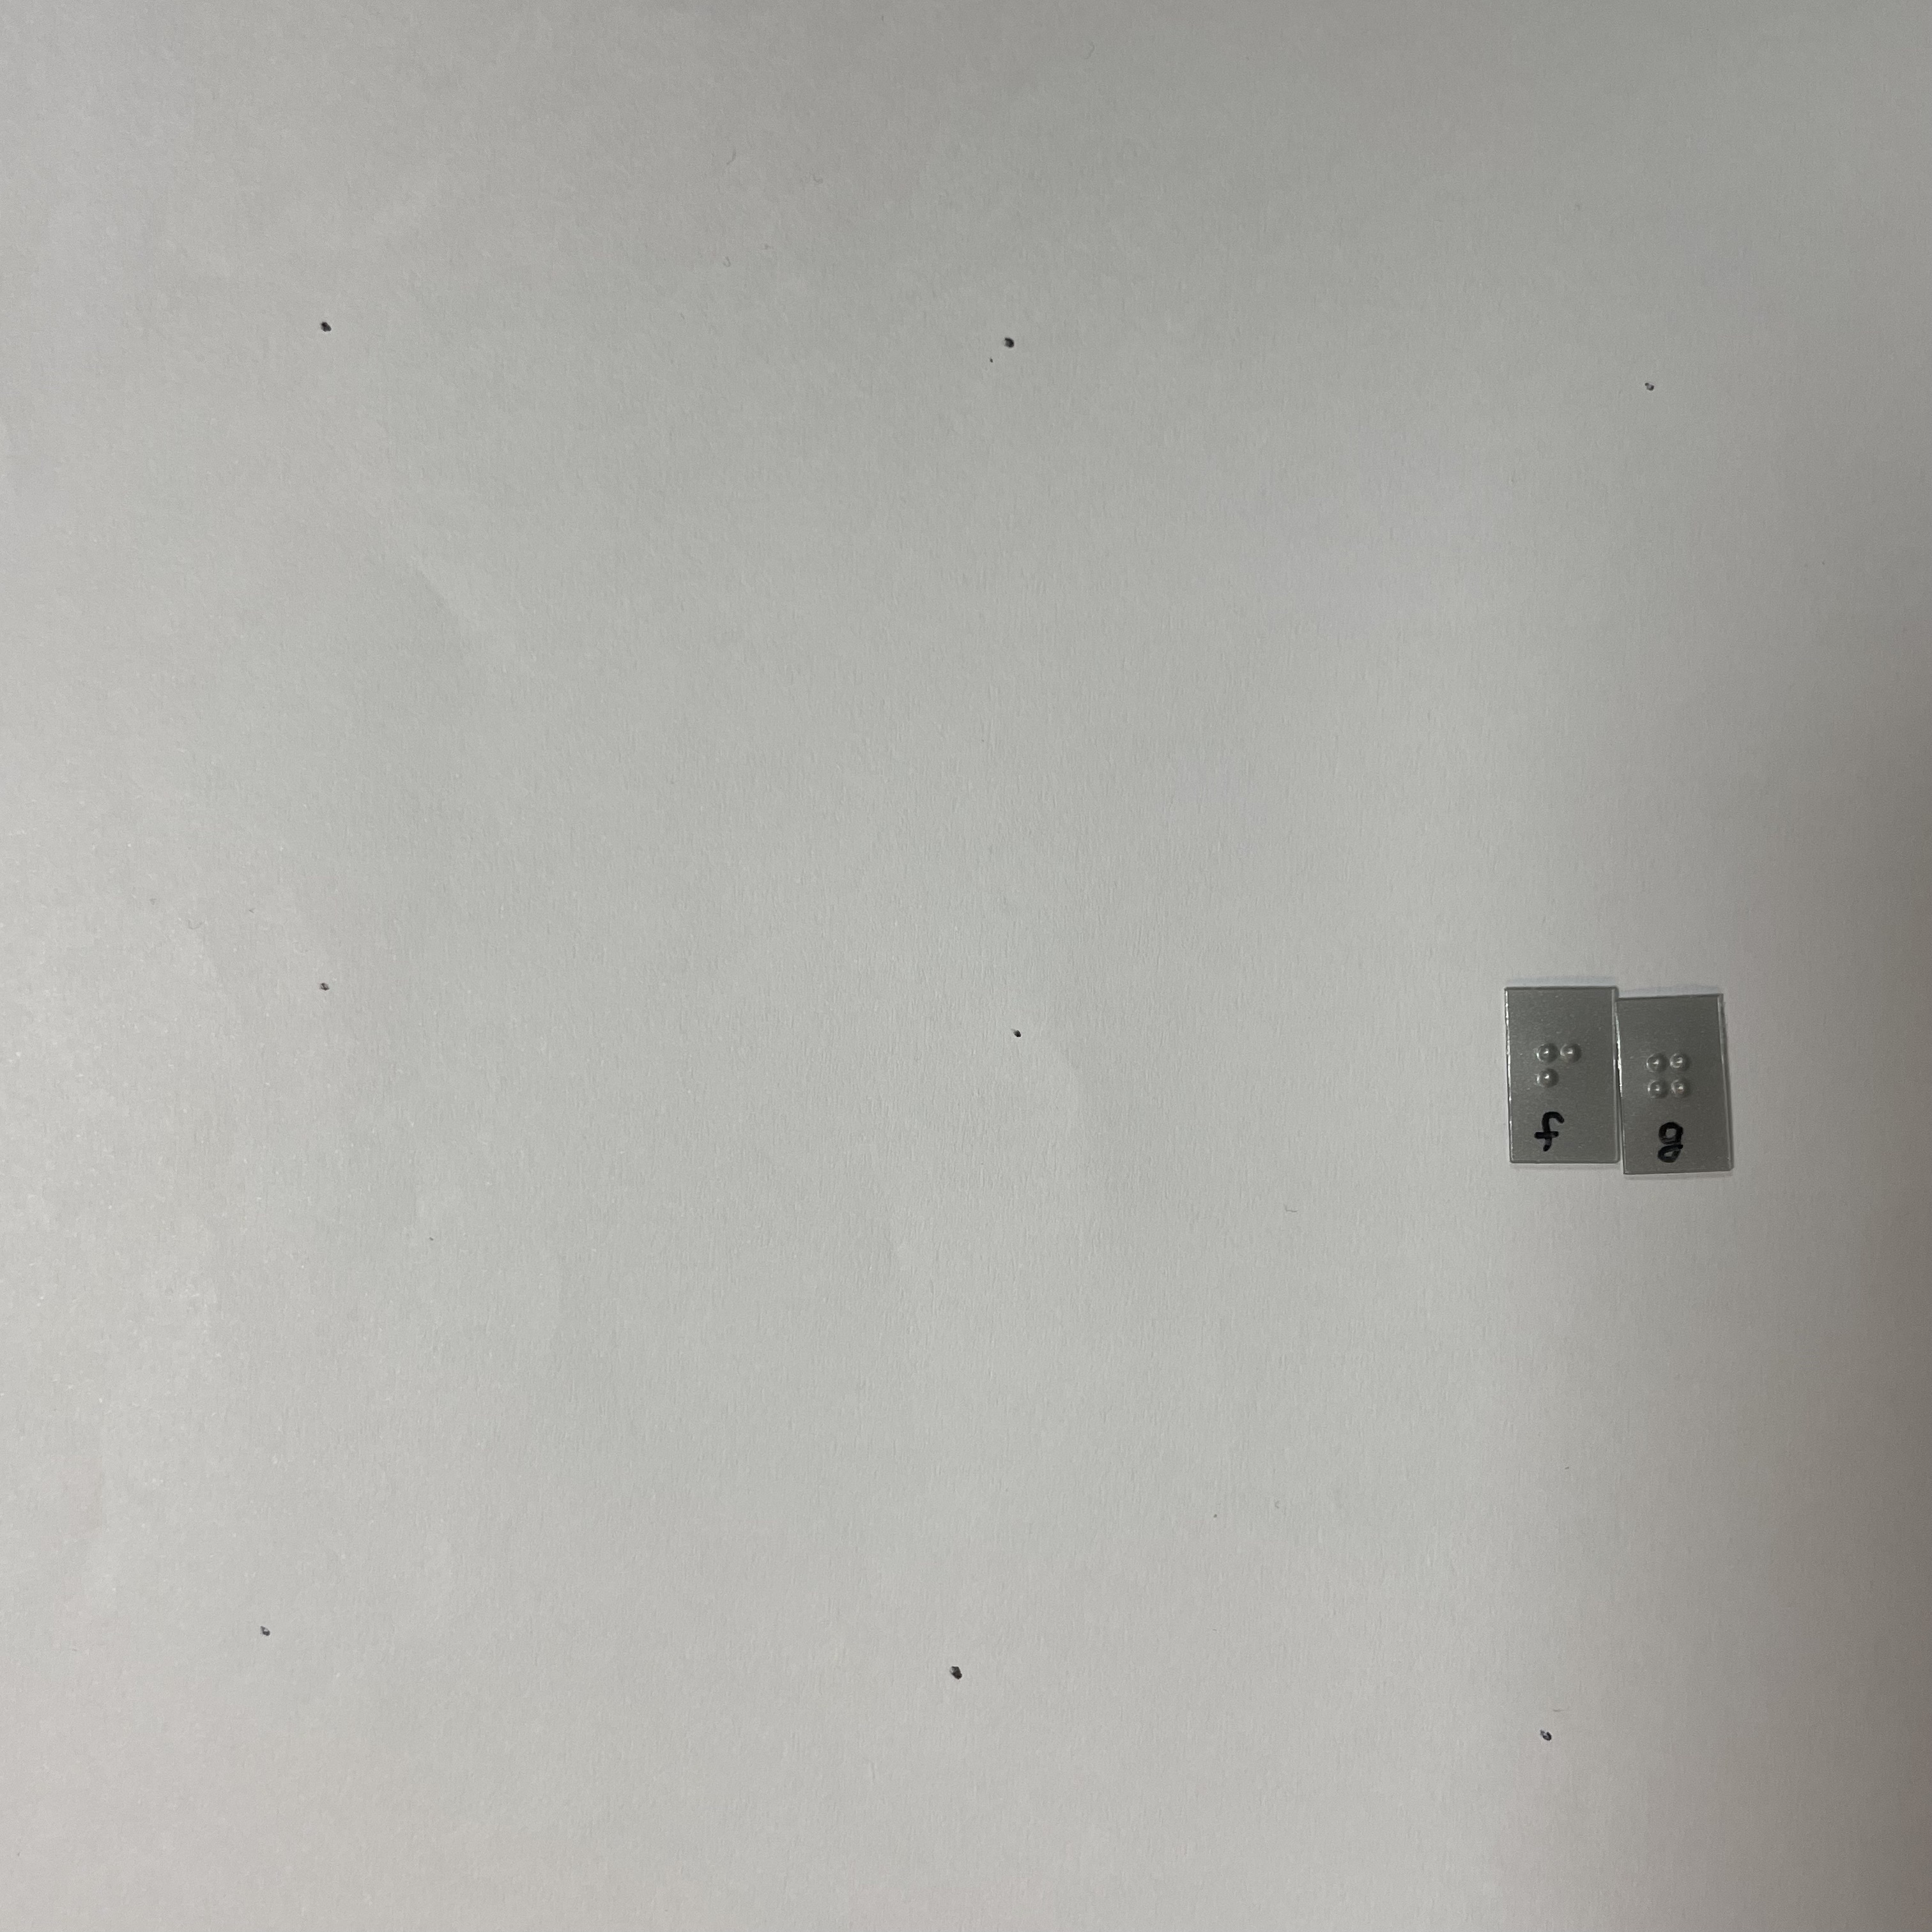f: (1531, 1030, 1590, 1124)
g: (1640, 1041, 1704, 1133)
